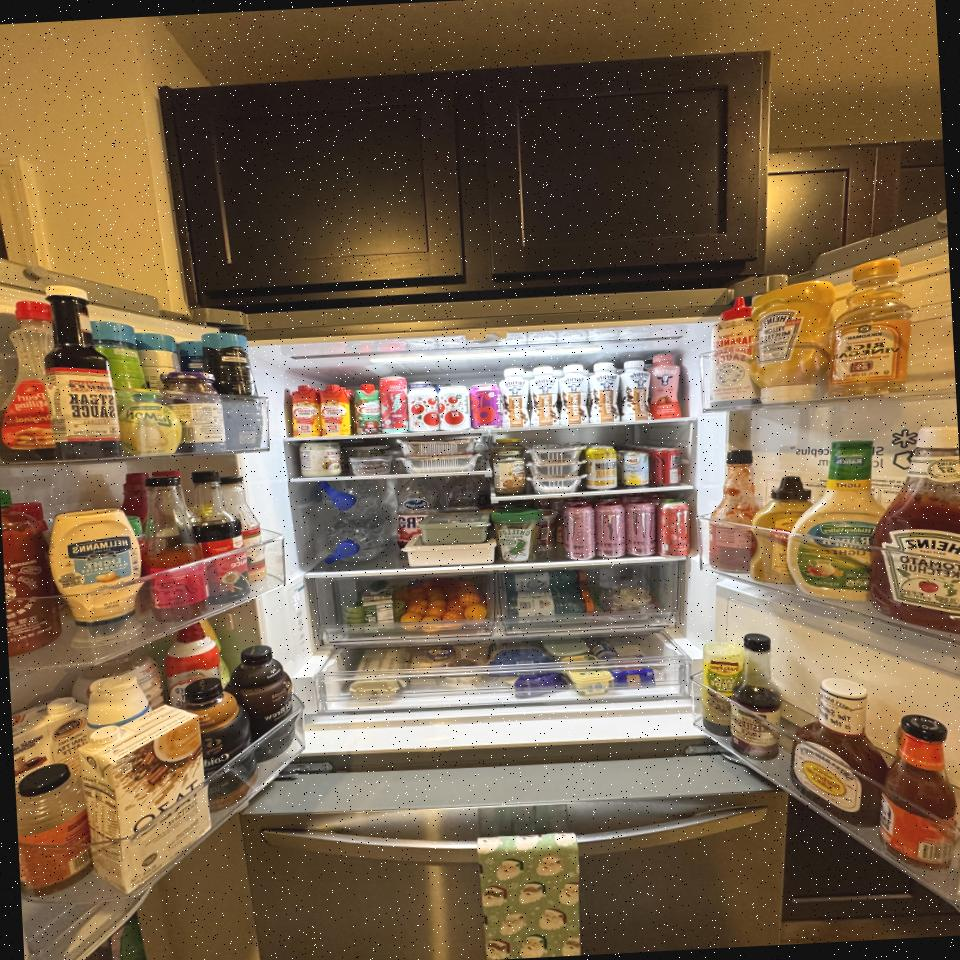Huevos: (342, 646, 411, 704)
Mantequilla: (604, 654, 656, 690)
